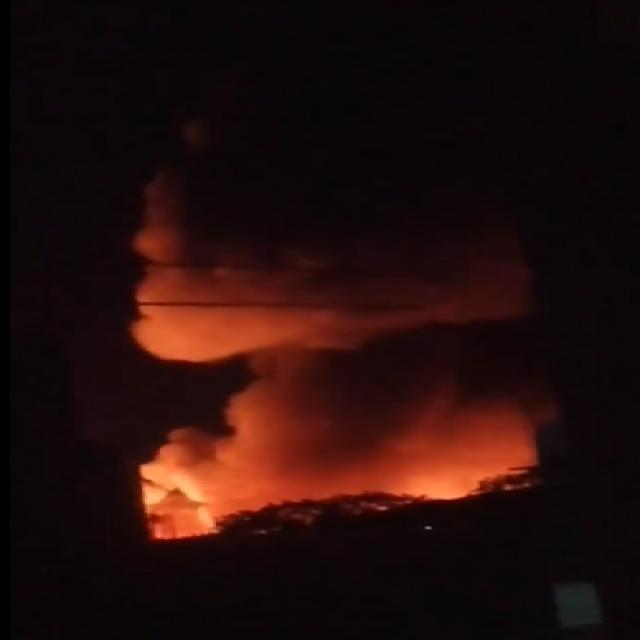Smoke: (120, 146, 546, 531)
